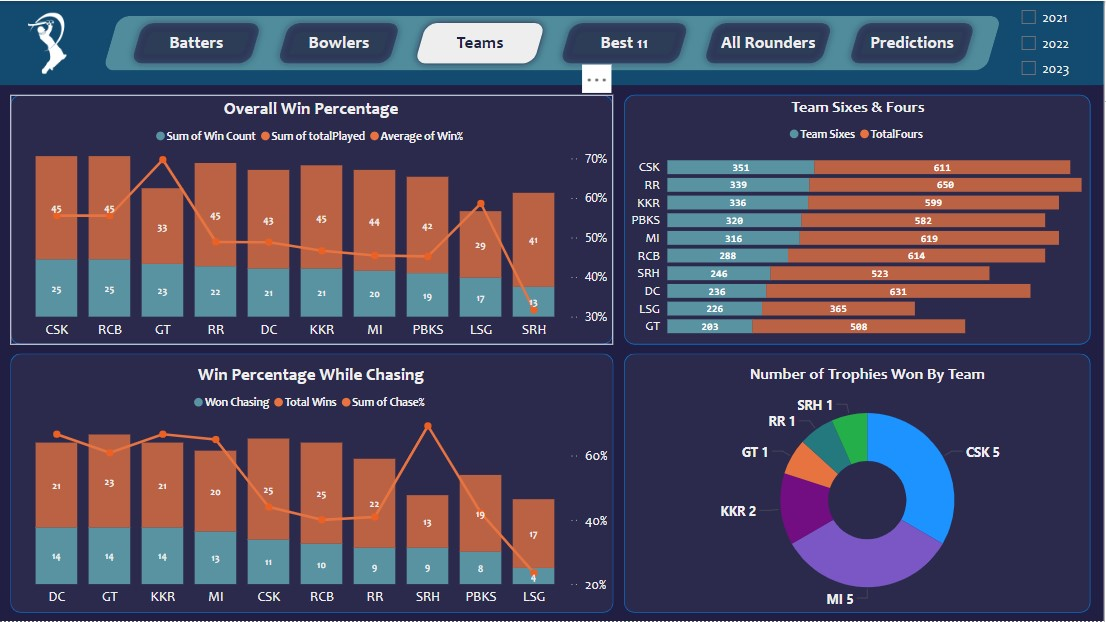

The page's visual inventory and layout, read from the dashboard file:
{"tool":"powerbi","page":{"name":"Team Analysis","canvas":[1280,720],"ordinal":2},"visuals":[{"type":"shape","box":[0,97.4,1280.3,623],"z":0},{"type":"shape","box":[98.8,12.3,404.8,74.1],"z":1000},{"type":"shape","box":[0,0,1280.3,97.4],"z":2000},{"type":"shape","box":[120.8,17.8,1041.5,63.1],"z":3000},{"type":"actionButton","box":[145.5,17.8,167.4,63.1],"z":4000},{"type":"actionButton","box":[314.2,17.8,159.2,63.1],"z":5000},{"type":"actionButton","box":[473.4,17.8,167.4,63.1],"z":6000},{"type":"actionButton","box":[642.2,17.8,166,63.1],"z":7000},{"type":"actionButton","box":[808.2,17.8,166,63.1],"z":8000},{"type":"actionButton","box":[975.6,17.8,163.3,63.1],"z":9000},{"type":"image","box":[13.7,8.2,85.1,81],"z":10000},{"type":"slicer","fields":{"Values":["dim_match_summary.matchDate.Variation.Date Hierarchy.Year"]},"box":[1171.9,0,93.3,97.4],"z":11000},{"type":"donutChart","title":"Number of Trophies Won By Team","fields":{"Category":["fact_team_Analysis.team"],"Y":["Sum(fact_team_Analysis.trophy_count.Trophies Won)"]},"box":[747.9,419.9,517.3,289.5],"z":12000},{"type":"barChart","title":"Team Sixes & Fours","fields":{"Y":["Key_Measures.Team Sixes","Key_Measures.TotalFours"],"Category":["fact_batting_summary.teamInnings"]},"box":[725.9,111.1,539.3,286.8],"z":13000},{"type":"lineStackedColumnComboChart","title":"Overall Win Percentage","fields":{"Category":["teamAnalysis.team"],"Y2":["Avg(fact_team_Analysis.Win%)"],"Y":["Sum(fact_team_Analysis.Win Count)","Sum(fact_team_Analysis.totalPlayed)"]},"box":[13.7,111.1,697.1,288.2],"z":14000},{"type":"lineStackedColumnComboChart","title":"Win Percentage While Chasing","fields":{"Category":["fact_team_Analysis.team"],"Y":["Sum(fact_team_Analysis.won_while_chasing)","Sum(fact_team_Analysis.Win Count)"],"Y2":["Sum(fact_team_Analysis.Chase%)"]},"box":[13.7,419.9,697.1,289.5],"z":15000},{"type":"shape","box":[12.3,108.4,698.5,289.5],"z":16000},{"type":"shape","box":[13.7,408.9,699,300.5],"z":17000},{"type":"shape","box":[724.5,108.4,540.7,289.5],"z":18000},{"type":"shape","box":[724.5,408.9,540.7,300.5],"z":19000}]}

Visuals, with their boxes in screenshot pixels (x1, y1, x2, y2), scaled from the page's 1280x720 canvas onto the 1106x622 screenshot:
shape: <region>0, 84, 1105, 621</region>
shape: <region>85, 11, 435, 75</region>
shape: <region>0, 0, 1105, 84</region>
shape: <region>104, 15, 1004, 70</region>
actionButton: <region>126, 15, 270, 70</region>
actionButton: <region>271, 15, 409, 70</region>
actionButton: <region>409, 15, 554, 70</region>
actionButton: <region>555, 15, 698, 70</region>
actionButton: <region>698, 15, 842, 70</region>
actionButton: <region>843, 15, 984, 70</region>
image: <region>12, 7, 85, 77</region>
slicer - dim_match_summary.matchDate.Variation.Date Hierarchy.Year: <region>1013, 0, 1093, 84</region>
"Number of Trophies Won By Team" donutChart: <region>646, 363, 1093, 613</region>
"Team Sixes & Fours" barChart: <region>627, 96, 1093, 344</region>
"Overall Win Percentage" lineStackedColumnComboChart: <region>12, 96, 614, 345</region>
"Win Percentage While Chasing" lineStackedColumnComboChart: <region>12, 363, 614, 613</region>
shape: <region>11, 94, 614, 344</region>
shape: <region>12, 353, 616, 613</region>
shape: <region>626, 94, 1093, 344</region>
shape: <region>626, 353, 1093, 613</region>
